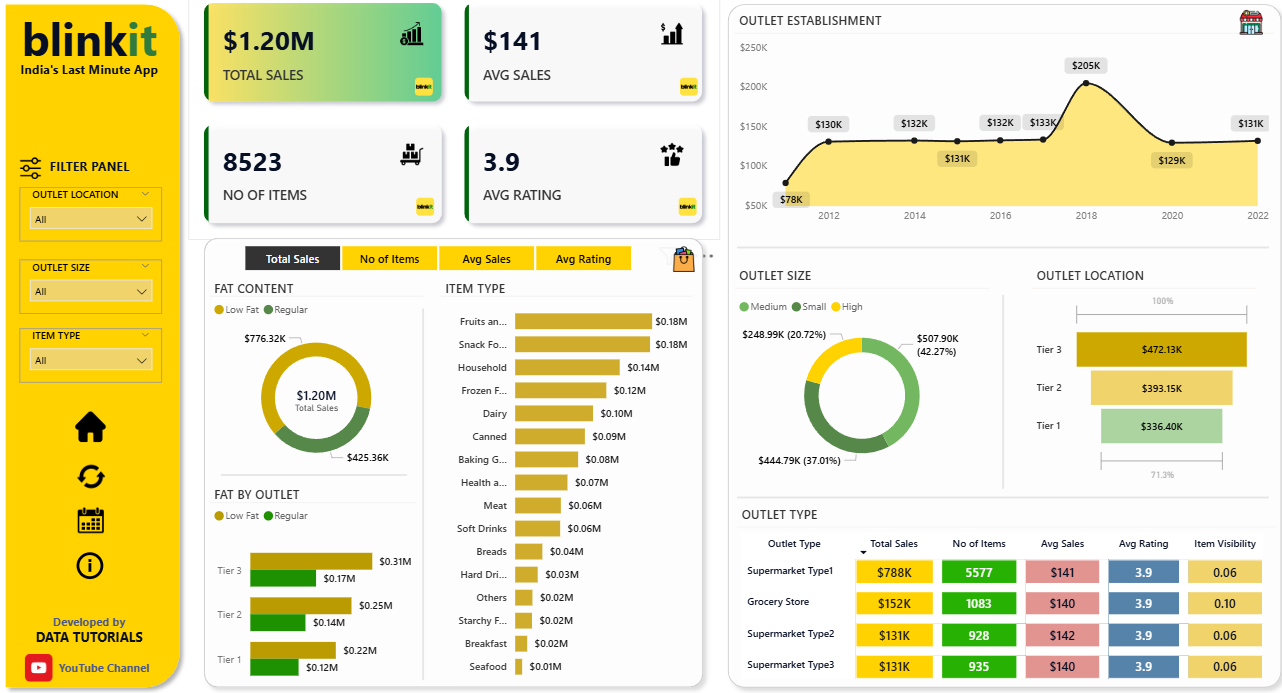

The page's visual inventory and layout, read from the dashboard file:
{"tool":"powerbi","page":{"name":"Home","canvas":[1400,800],"ordinal":0},"visuals":[{"type":"shape","box":[0,25.3,205,750.7],"z":0},{"type":"textbox","box":[0,33,198.1,82.1],"z":1000},{"type":"cardVisual","fields":{"Data":["BlinkIT Grocery Data.Total Sum Sales","BlinkIT Grocery Data.Average Sales","BlinkIT Grocery Data.No of Items","BlinkIT Grocery Data.Avg Rating"]},"box":[204.8,15.8,569.7,270.8],"z":2000},{"type":"image","box":[71.4,466.3,58.7,42.6],"z":3000},{"type":"image","box":[74.4,521.1,52.1,39.7],"z":4000},{"type":"image","box":[81.8,568.8,38,39.1],"z":5000},{"type":"shape","box":[774.5,25.5,611.7,751.1],"z":6000},{"type":"areaChart","title":"OUTLET ESTABLISHMENT","fields":{"Y":["BlinkIT Grocery Data.Total Sum Sales"],"Category":["BlinkIT Grocery Data.Outlet Establishment Year2"]},"box":[790.6,42.5,578.3,234],"z":7000},{"type":"textbox","box":[0,89.6,198.1,34],"z":8000},{"type":"donutChart","title":"OUTLET SIZE","fields":{"Category":["BlinkIT Grocery Data.Outlet Size"],"Y":["BlinkIT Grocery Data.Total Sum Sales"]},"box":[790.6,316,273.6,224.5],"z":9000},{"type":"funnel","title":"OUTLET LOCATION","fields":{"Category":["BlinkIT Grocery Data.Outlet Location Type"],"Y":["BlinkIT Grocery Data.Total Sum Sales"]},"box":[1110.4,316,240.6,234],"z":10000},{"type":"pivotTable","title":"OUTLET TYPE","fields":{"Rows":["BlinkIT Grocery Data.Outlet Type"],"Values":["BlinkIT Grocery Data.Total Sum Sales","BlinkIT Grocery Data.No of Items","BlinkIT Grocery Data.Average Sales","BlinkIT Grocery Data.Avg Rating","Avg(BlinkIT Grocery Data.Item Visibility)"]},"box":[793.6,572.3,578.7,197.1],"z":11000},{"type":"shape","box":[793.4,284.9,570.8,19.8],"z":12000},{"type":"shape","box":[1064.2,346.2,29.2,208.5],"z":13000},{"type":"shape","box":[212.8,276.6,553.2,500],"z":14000},{"type":"donutChart","title":"FAT CONTENT","fields":{"Y":["BlinkIT Grocery Data.Total Sum Sales"],"Category":["BlinkIT Grocery Data.Item Fat Content"]},"box":[228.3,330.2,229.2,213.2],"z":15000},{"type":"shape","box":[793.4,553.8,570.8,19.8],"z":16000},{"type":"cardVisual","fields":{"Data":["BlinkIT Grocery Data.Total Sum Sales"]},"box":[291.9,428.1,102,54.5],"z":17000},{"type":"slicer","fields":{"Values":["Metric.Metric"]},"box":[240,287.5,464.2,39.6],"z":18000},{"type":"barChart","title":"ITEM TYPE","fields":{"Y":["BlinkIT Grocery Data.Total Sum Sales"],"Category":["BlinkIT Grocery Data.Item Type"]},"box":[475.3,330.2,269.8,438.1],"z":19000},{"type":"shape","box":[442.5,360.4,29.2,399.1],"z":20000},{"type":"clusteredBarChart","title":"FAT BY OUTLET","fields":{"Y":["BlinkIT Grocery Data.Total Sum Sales"],"Category":["BlinkIT Grocery Data.Outlet Location Type"],"Series":["BlinkIT Grocery Data.Item Fat Content"]},"box":[228.3,550.9,221.7,229.2],"z":21000},{"type":"shape","box":[239.6,529.2,200,19.8],"z":22000},{"type":"image","box":[725.5,108.5,33,29.2],"z":23000},{"type":"image","box":[723.6,237.7,33,29.2],"z":24000},{"type":"image","box":[442.5,237.7,33,29.2],"z":25000},{"type":"image","box":[440.6,108.5,33,29.2],"z":26000},{"type":"image","box":[715.6,289.2,41.3,36.9],"z":27000},{"type":"image","box":[1327.5,33.4,36,40.4],"z":28000},{"type":"slicer","fields":{"Values":["BlinkIT Grocery Data.Outlet Location Type"]},"box":[23.7,231.2,153,58],"z":29000},{"type":"slicer","fields":{"Values":["BlinkIT Grocery Data.Outlet Size"]},"box":[23.7,307.7,153,58],"z":30000},{"type":"slicer","fields":{"Values":["BlinkIT Grocery Data.Item Type"]},"box":[23.7,382.4,153,58],"z":31000},{"type":"textbox","box":[36.8,193.4,126.4,31.1],"z":32000},{"type":"image","box":[18.9,184,34.9,53.8],"z":33000},{"type":"textbox","box":[36.8,680.5,125.5,28.8],"z":34000},{"type":"textbox","box":[36.8,697.8,125.5,28.8],"z":35000},{"type":"image","box":[15,726.5,59.9,39.1],"z":36000},{"type":"textbox","box":[51.8,730,125.5,28.8],"z":37000},{"type":"actionButton","box":[80.6,616.6,38.5,39.7],"z":38000}]}

Visuals, with their boxes on the page's 1400x800 design canvas (x1, y1, x2, y2). These are canvas units, not pixel positions in the 1282x693 screenshot, which may show the page scaled, cropped or inside an application window:
shape: <box>0,25,205,776</box>
textbox: <box>0,33,198,115</box>
cardVisual - BlinkIT Grocery Data.Total Sum Sales x BlinkIT Grocery Data.Average Sales: <box>205,16,774,287</box>
image: <box>71,466,130,509</box>
image: <box>74,521,126,561</box>
image: <box>82,569,120,608</box>
shape: <box>774,26,1386,777</box>
"OUTLET ESTABLISHMENT" areaChart: <box>791,42,1369,276</box>
textbox: <box>0,90,198,124</box>
"OUTLET SIZE" donutChart: <box>791,316,1064,540</box>
"OUTLET LOCATION" funnel: <box>1110,316,1351,550</box>
"OUTLET TYPE" pivotTable: <box>794,572,1372,769</box>
shape: <box>793,285,1364,305</box>
shape: <box>1064,346,1093,555</box>
shape: <box>213,277,766,777</box>
"FAT CONTENT" donutChart: <box>228,330,458,543</box>
shape: <box>793,554,1364,574</box>
cardVisual - BlinkIT Grocery Data.Total Sum Sales: <box>292,428,394,483</box>
slicer - Metric.Metric: <box>240,288,704,327</box>
"ITEM TYPE" barChart: <box>475,330,745,768</box>
shape: <box>442,360,472,760</box>
"FAT BY OUTLET" clusteredBarChart: <box>228,551,450,780</box>
shape: <box>240,529,440,549</box>
image: <box>726,108,758,138</box>
image: <box>724,238,757,267</box>
image: <box>442,238,476,267</box>
image: <box>441,108,474,138</box>
image: <box>716,289,757,326</box>
image: <box>1328,33,1364,74</box>
slicer - BlinkIT Grocery Data.Outlet Location Type: <box>24,231,177,289</box>
slicer - BlinkIT Grocery Data.Outlet Size: <box>24,308,177,366</box>
slicer - BlinkIT Grocery Data.Item Type: <box>24,382,177,440</box>
textbox: <box>37,193,163,224</box>
image: <box>19,184,54,238</box>
textbox: <box>37,680,162,709</box>
textbox: <box>37,698,162,727</box>
image: <box>15,726,75,766</box>
textbox: <box>52,730,177,759</box>
actionButton: <box>81,617,119,656</box>
